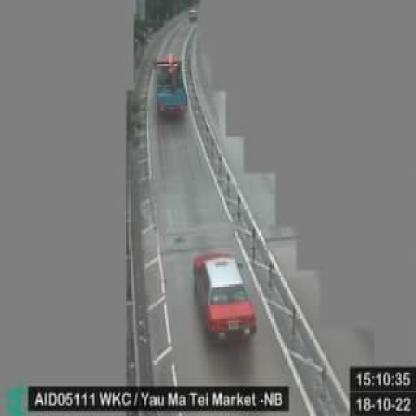Car: (192, 252, 258, 348), (188, 8, 200, 23)
Truck: (154, 53, 190, 120)
